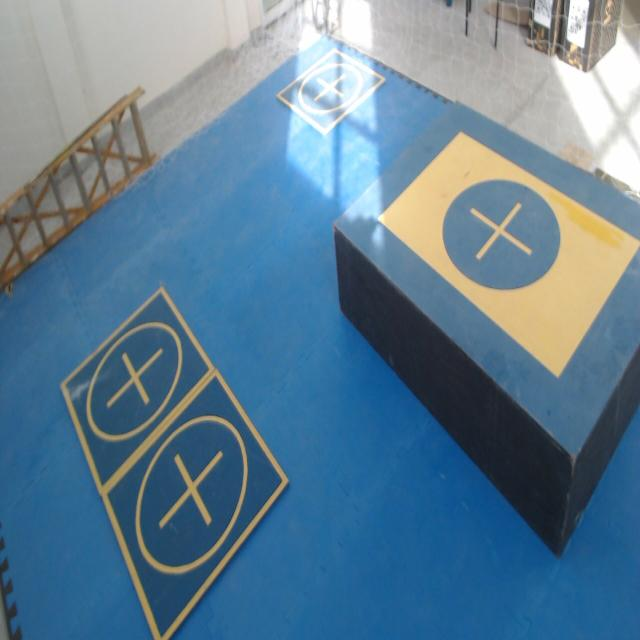base_inicio: (376, 129, 640, 381)
base_pouso: (102, 369, 290, 639), (60, 285, 217, 499), (275, 45, 386, 137)
